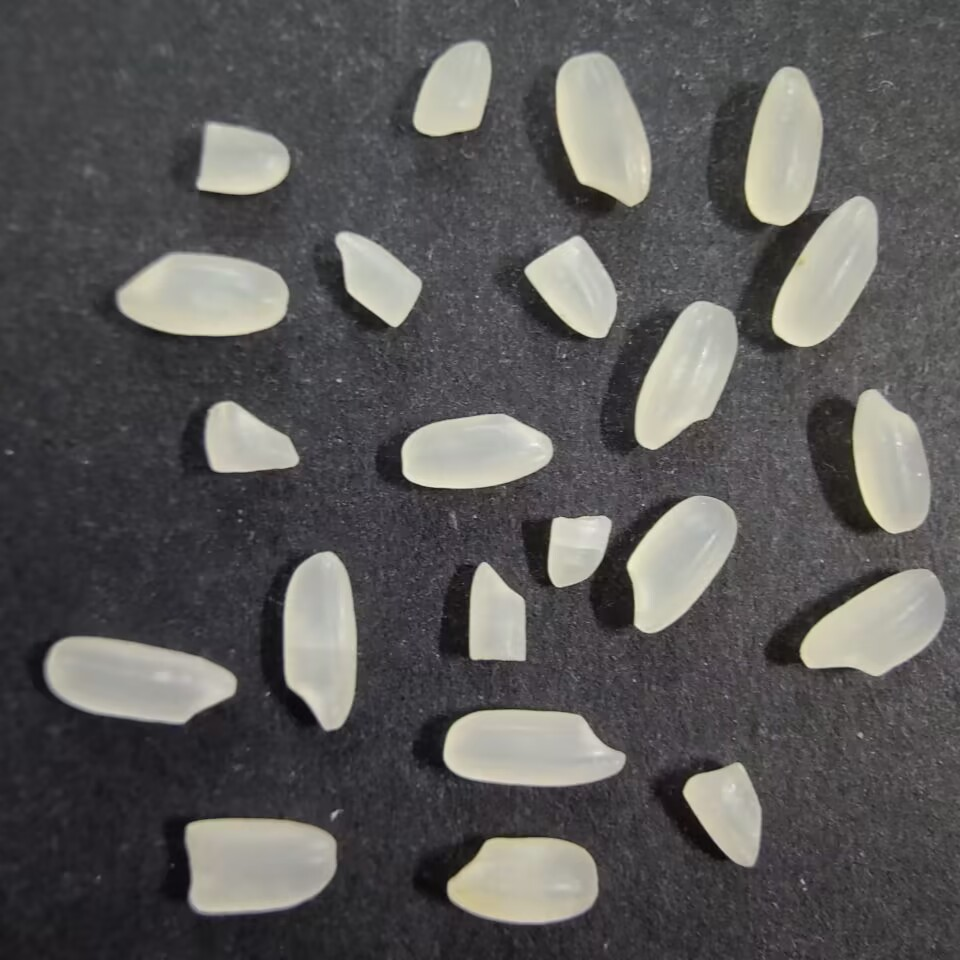broken: (519, 232, 619, 346), (678, 758, 764, 872), (331, 231, 428, 330), (404, 38, 496, 140), (200, 398, 302, 483), (193, 118, 293, 198), (465, 556, 531, 667), (542, 509, 615, 592)
rice: (41, 634, 239, 730), (770, 192, 885, 352), (178, 813, 341, 922), (630, 297, 741, 454), (797, 565, 948, 679), (627, 489, 743, 636), (435, 707, 629, 793), (551, 49, 654, 210), (275, 548, 362, 735), (111, 250, 288, 338), (444, 831, 601, 926), (740, 62, 824, 228), (394, 410, 557, 491), (851, 384, 936, 538)
